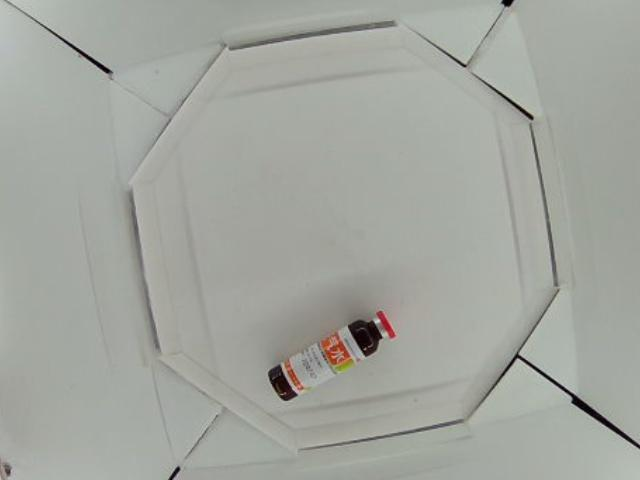Medicine: (270, 311, 395, 403)
